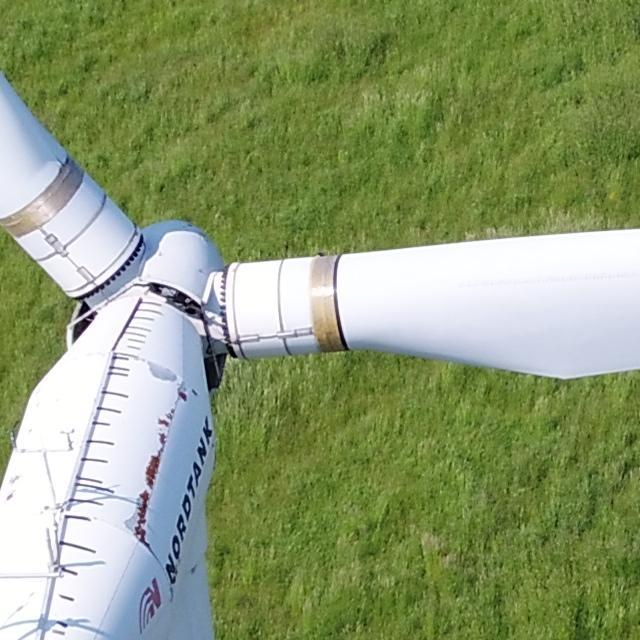damage: (145, 358, 177, 383), (131, 525, 155, 552), (144, 454, 161, 490), (136, 490, 152, 524), (123, 507, 138, 533), (157, 430, 167, 454), (157, 417, 171, 430), (177, 390, 189, 403), (189, 389, 202, 398), (189, 565, 198, 576), (5, 492, 14, 502), (165, 412, 173, 419), (170, 407, 176, 415)
